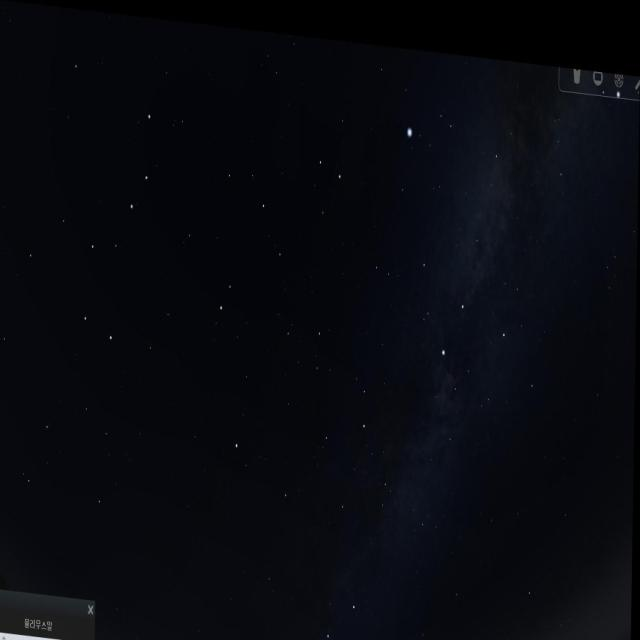cassiopeia: (284, 572, 366, 640)
cygnus: (420, 163, 510, 366)
lyra: (399, 76, 467, 156)
ursa_major: (77, 97, 172, 360)
